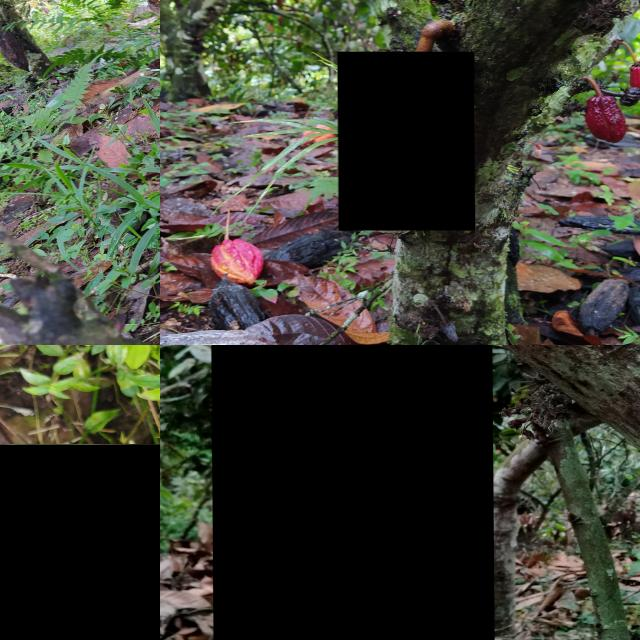Fitoftora: (0, 444, 160, 640)
Monilia: (210, 345, 494, 640), (337, 52, 474, 230)
Sana: (586, 95, 627, 144), (628, 61, 640, 96)
